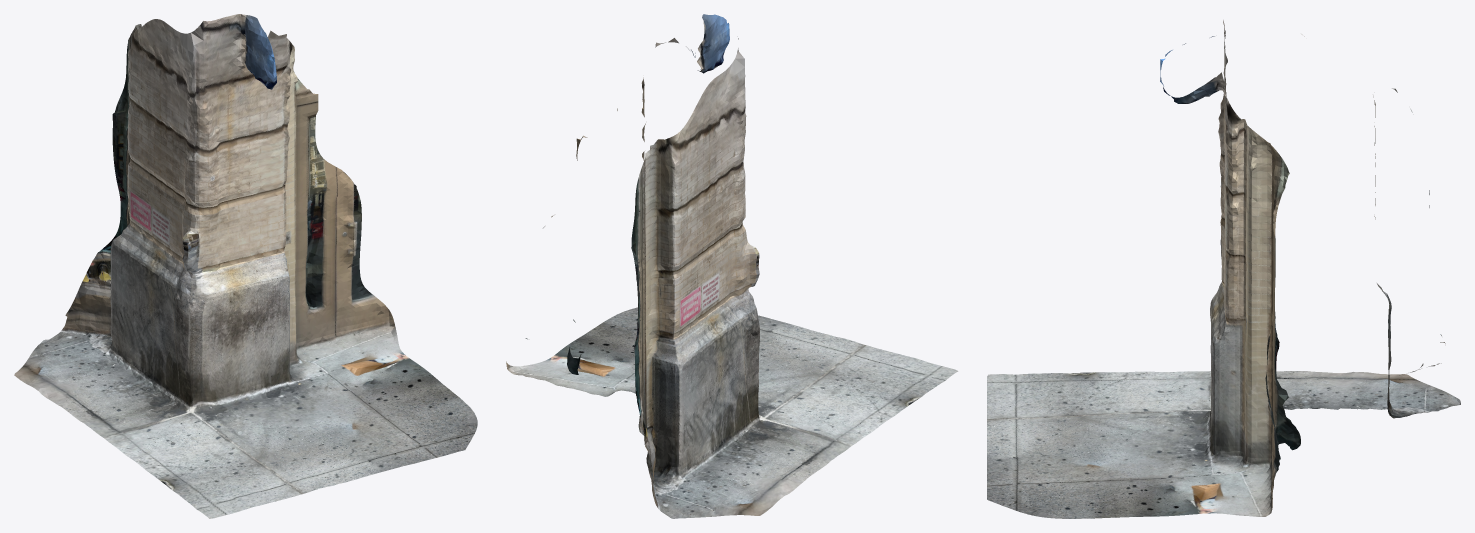
3 views of the same model, side by side, from view 1: azimuth 30°, elevation 25°; view 2: azimuth 150°, elevation 25°; view 3: azimuth 270°, elevation 25° (orthographic). The views are drawn at different scales.
Size of the model in its own units: 3.13 by 3.71 by 3.83.
1 material, 1 textured.
